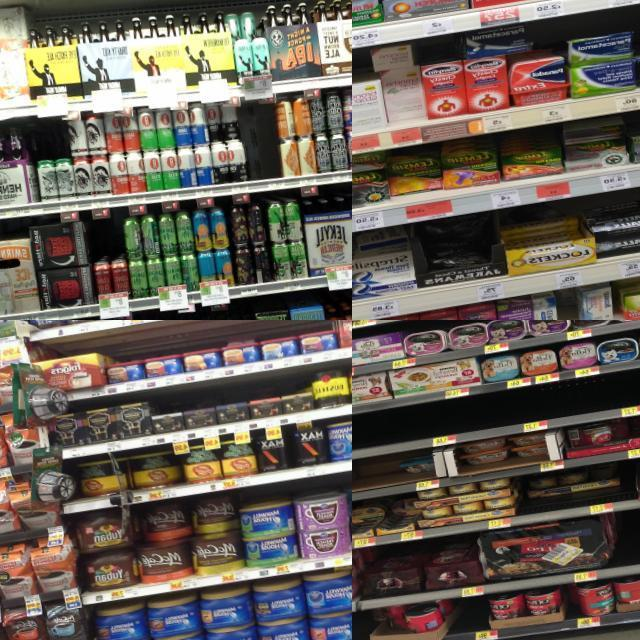Imprecise: (129, 499, 193, 584), (456, 434, 548, 469), (526, 468, 584, 514), (567, 422, 631, 454), (378, 602, 407, 640), (351, 504, 384, 537), (389, 498, 419, 532), (401, 450, 434, 479)
